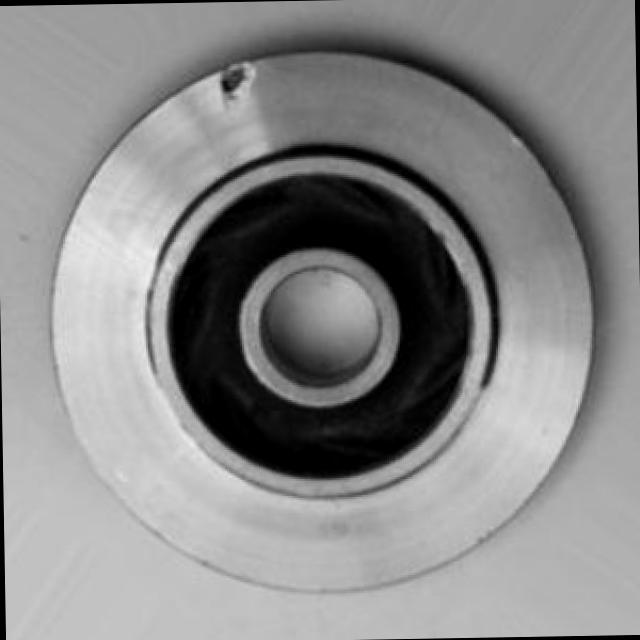Defect: (215, 60, 262, 104)
